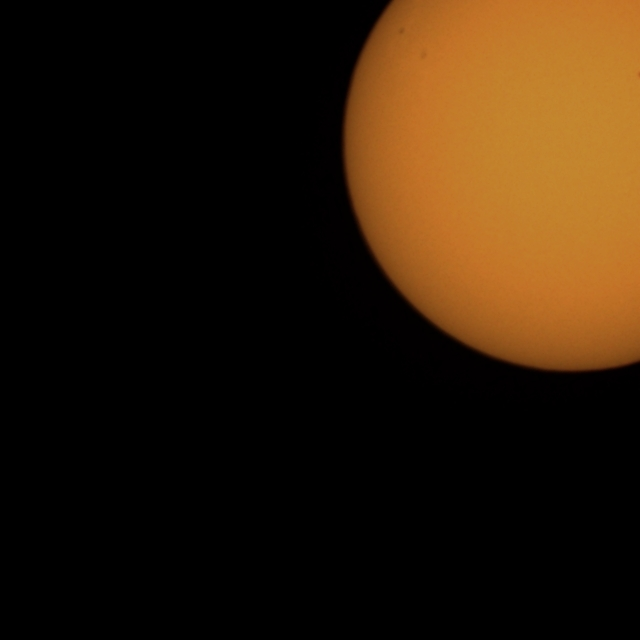sunspot: (418, 49, 429, 62), (397, 26, 406, 37), (636, 71, 640, 80)
